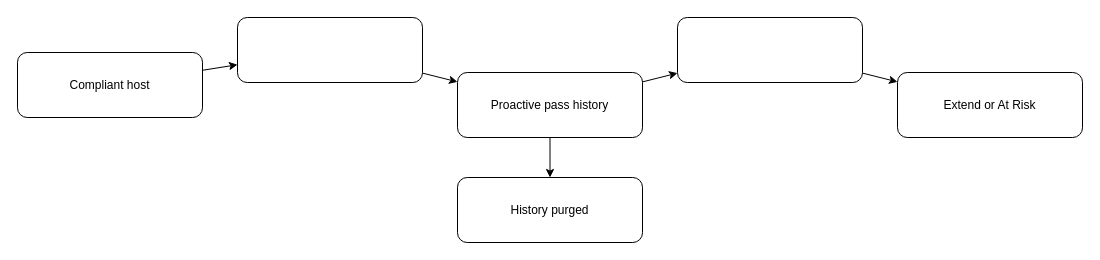
Image size: 1100x260. Some labels were removed from this diagram. The centre of each missing label's shape, as x and y in pixels:
Scheduled rescan: (x=329, y=49)
Validity interval: (x=769, y=49)
